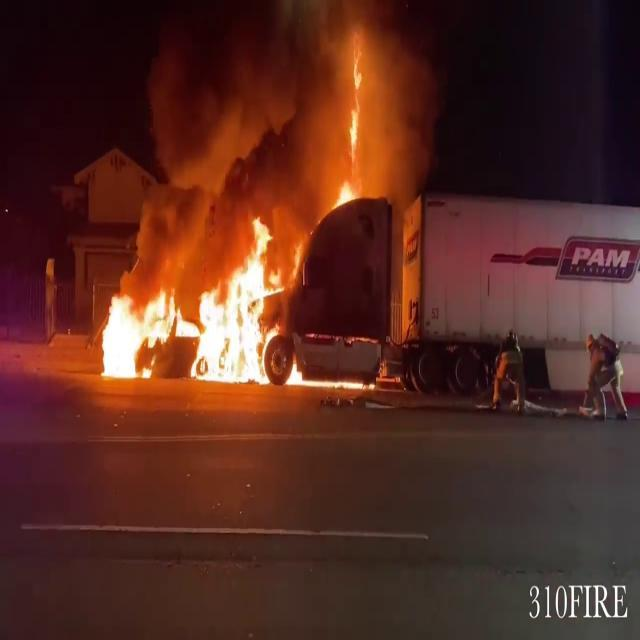Fire: (92, 219, 310, 390), (336, 38, 372, 208)
Smoke: (129, 0, 451, 207)
